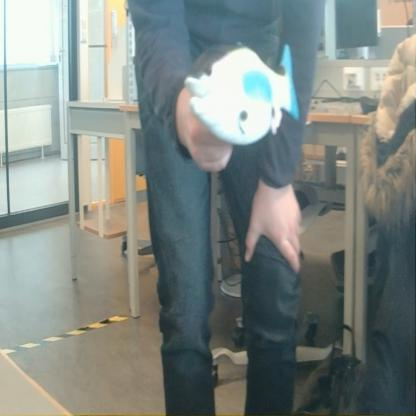rubberfish: (182, 26, 305, 153)
